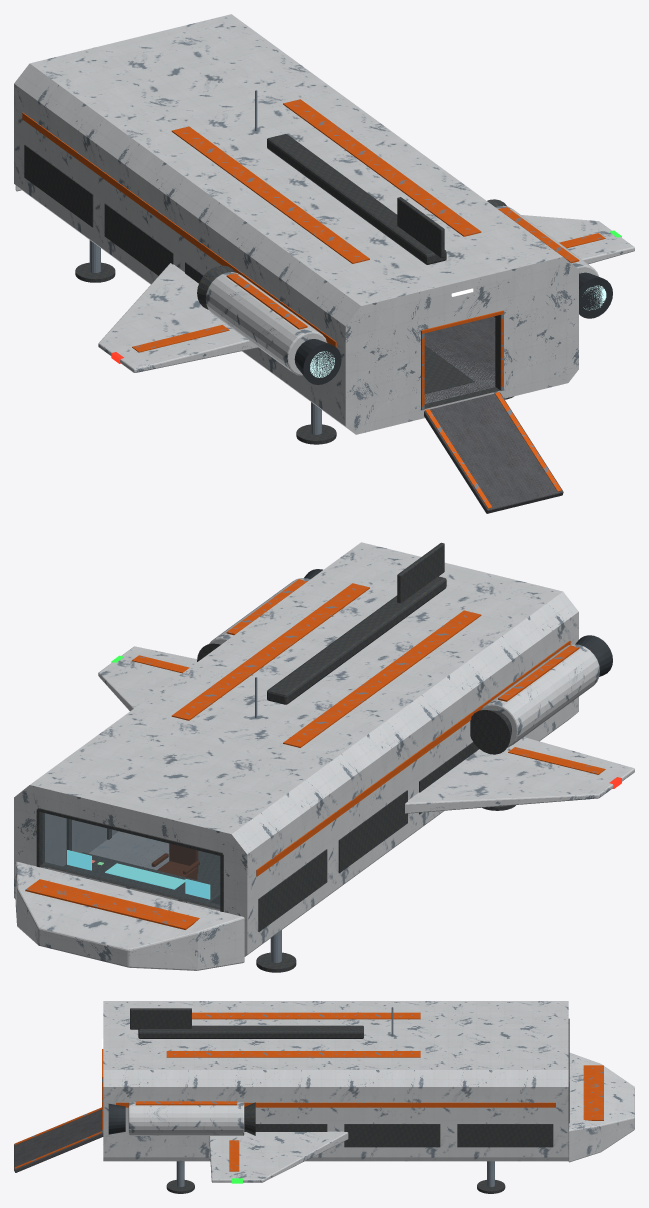
File: ship.glb
3 renders of one model, top to bottom at view 1: azimuth 30°, elevation 25°; view 2: azimuth 150°, elevation 25°; view 3: azimuth 270°, elevation 25°, orthographic. The views are drawn at different scales.
Visible parts, largest first — view 1: Hull, ramp, Wing, Nacelle, Spine, FloorPlate, RoofStripe, RoofStripe.001, Wing.001, SidePanel, SidePanel.001, SideStripe (+7 smaller); view 2: Hull, Nose, Wing, glass, Nacelle, Spine, RoofStripe, RoofStripe.001, Wing.001, NoseStripe, SidePanel, SidePanel.001 (+12 smaller); view 3: Hull, Wing.001, Nose, Nacelle.001, Spine, ramp, SidePanel.003, SidePanel.004, SideStripe.001, RoofStripe, RoofStripe.001, Fin (+8 smaller).
Boxes of the visible parts, x1,y1,x2,y2 form: Hull: (14,14,578,434); ramp: (424,392,563,513); Wing: (98,263,257,372); Nacelle: (205,272,327,375); Spine: (267,134,446,264); FloorPlate: (424,317,495,403); RoofStripe: (171,126,369,263); RoofStripe.001: (283,99,481,236); Wing.001: (521,215,634,264); SidePanel: (24,144,93,227); SidePanel.001: (104,203,173,275); SideStripe: (22,112,336,347); Hull: (14,542,578,956); Nose: (15,861,244,970); Wing: (405,737,634,813); glass: (43,813,219,906); Nacelle: (480,644,599,747); Spine: (267,576,446,704); RoofStripe: (283,610,481,747); RoofStripe.001: (171,583,369,720); Wing.001: (98,646,197,710); NoseStripe: (25,879,199,929); SidePanel: (258,849,327,931); SidePanel.001: (338,790,407,873); Hull: (103,1001,568,1161); Wing.001: (209,1131,348,1182); Nose: (568,1053,634,1162); Nacelle.001: (128,1102,244,1135); Spine: (138,1025,363,1038); ramp: (14,1109,103,1172); SidePanel.003: (457,1124,553,1147); SidePanel.004: (344,1124,440,1147); SideStripe.001: (116,1102,555,1107); RoofStripe: (192,1012,420,1019); RoofStripe.001: (166,1051,420,1057); Fin: (130,1008,191,1029).
Bounding box in the file's own units: 14.44 × 5.97 × 22.01.
Materials: 17 (8 with a texture image).
